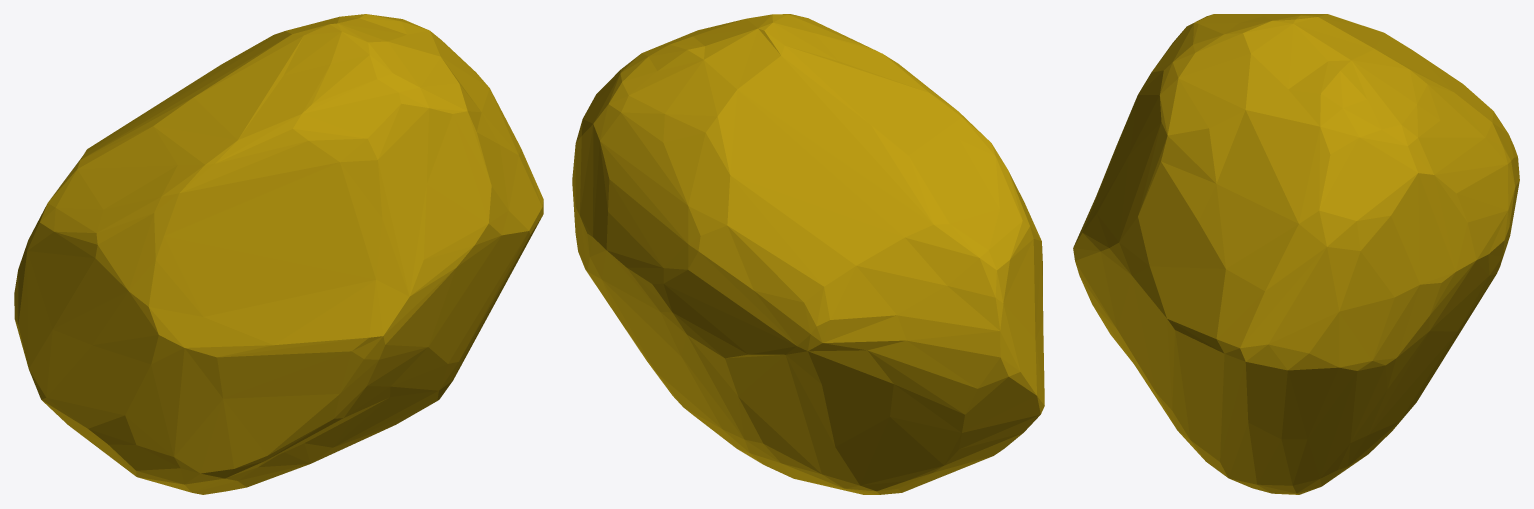
Rendered from gold.fbx.
The picture shows the model from 3 angles, left to right: view 1: azimuth 30°, elevation 25°; view 2: azimuth 150°, elevation 25°; view 3: azimuth 270°, elevation 25°; orthographic projection. The views are drawn at different scales.
Visible parts, largest first — view 1: Cube.109; view 2: Cube.109; view 3: Cube.109.
Boxes of the visible parts, bbox=[...] form: Cube.109: bbox=[14, 14, 543, 494]; Cube.109: bbox=[572, 14, 1044, 494]; Cube.109: bbox=[1073, 14, 1519, 494].
Size of the model in its own units: 236 by 206 by 172.
